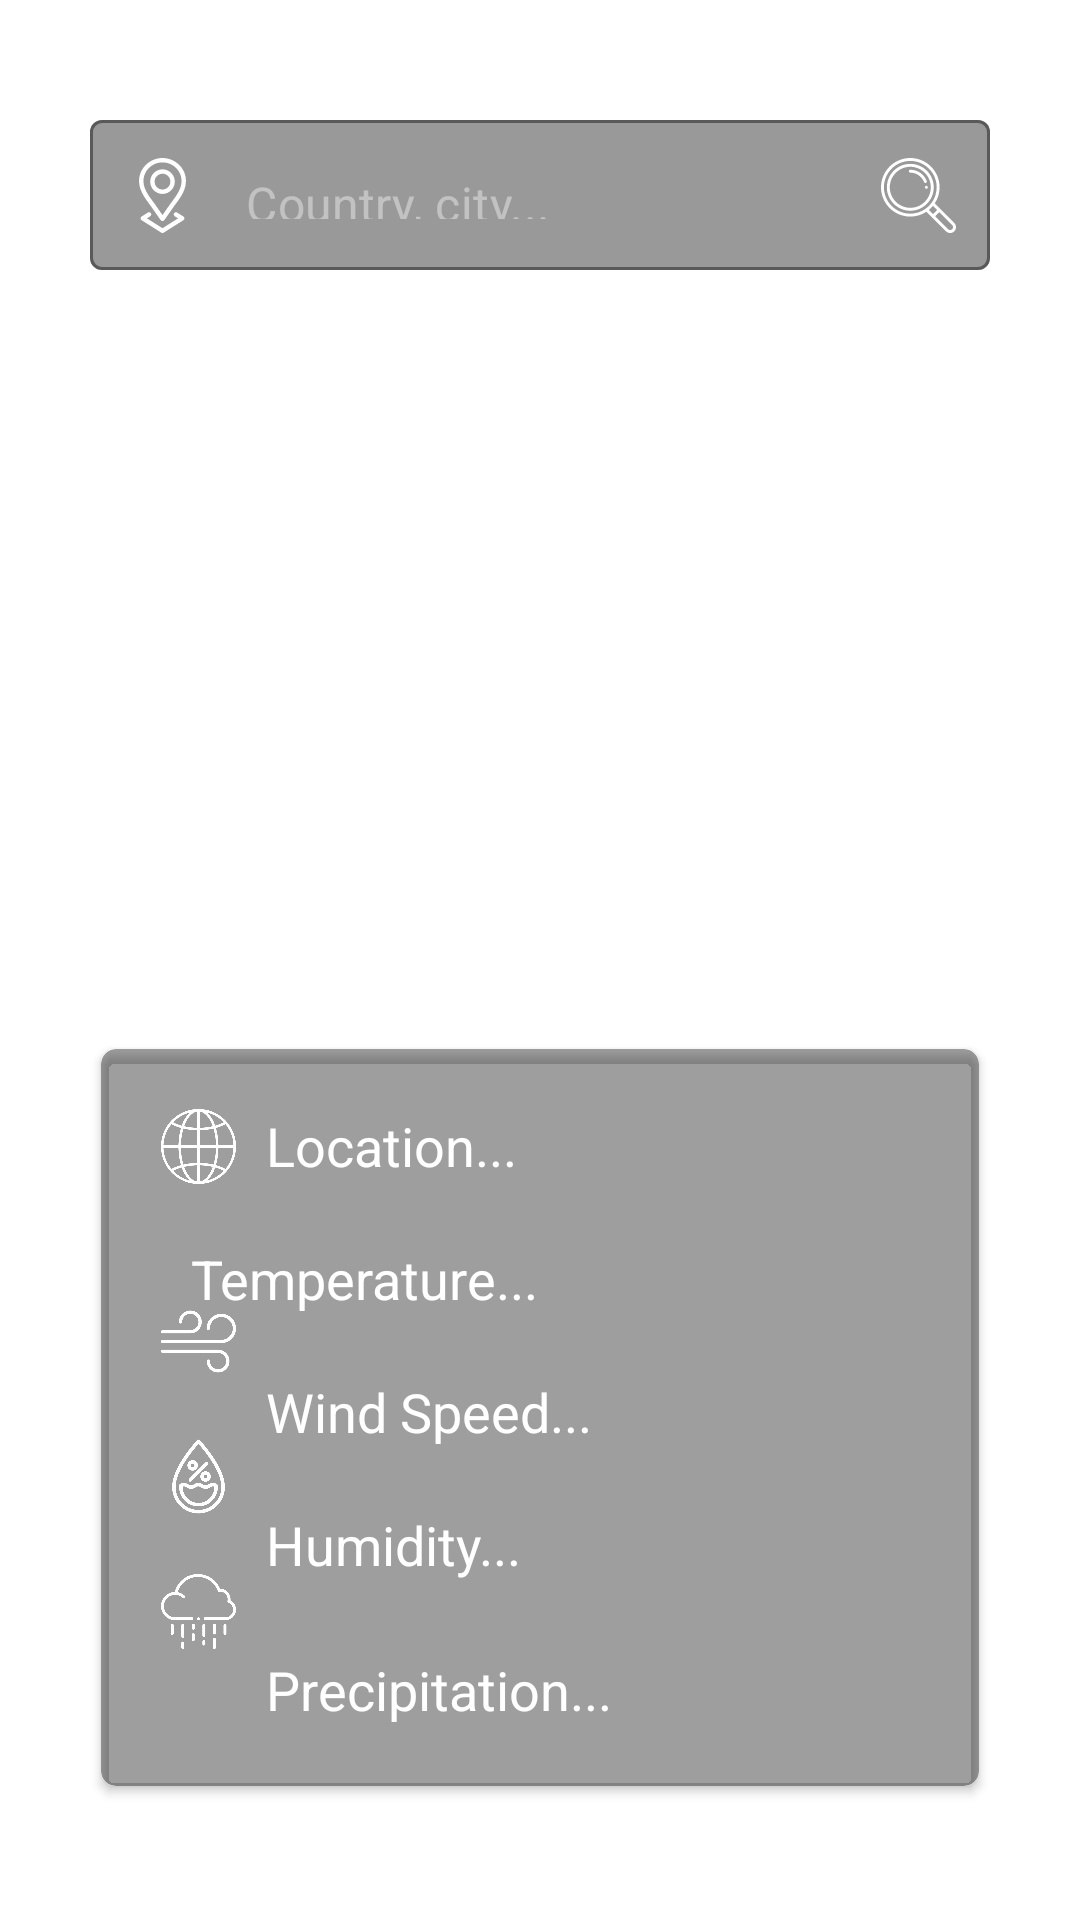

Icon click points for this 1080*1920 phone screenshot, format (x=x, y=y):
globe: (x=198, y=1146)
rain: (x=198, y=1611)
